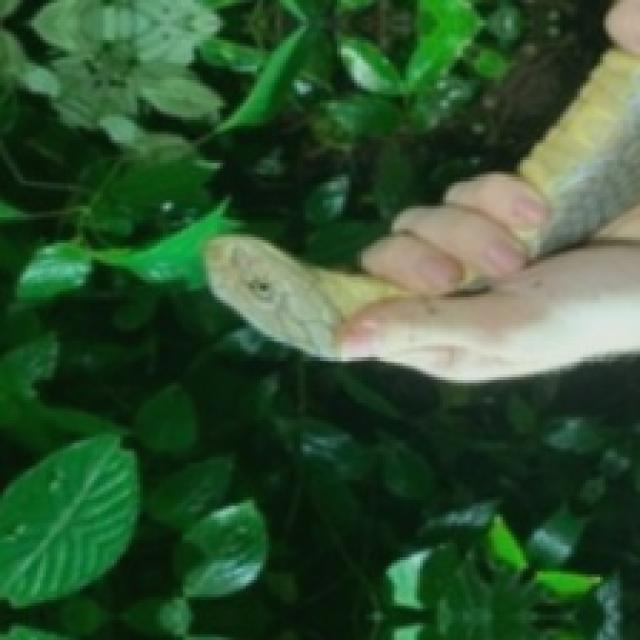king cobra: (203, 0, 637, 380)
